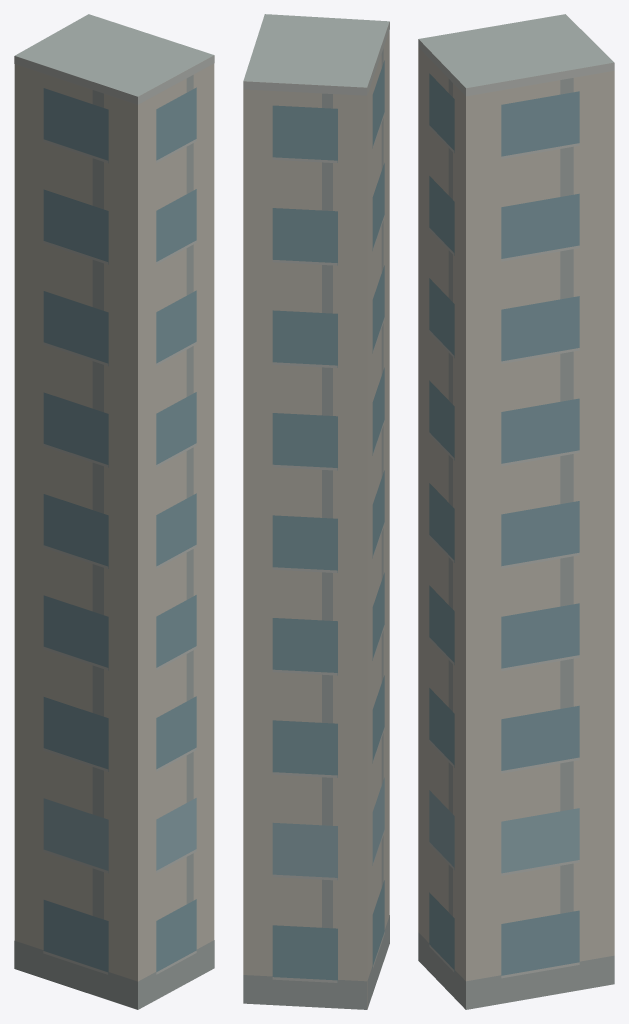
File: survey-upis-32953969.glb
3 views of the same model, side by side, from view 1: azimuth 30°, elevation 25°; view 2: azimuth 150°, elevation 25°; view 3: azimuth 270°, elevation 25° (orthographic).
Visible parts, largest first — view 1: survey-upis-32953969.tmp; view 2: survey-upis-32953969.tmp; view 3: survey-upis-32953969.tmp.
Part boxes in pixels (x1,y1,x2,y2): survey-upis-32953969.tmp: [14, 14, 214, 1009]; survey-upis-32953969.tmp: [243, 14, 389, 1009]; survey-upis-32953969.tmp: [418, 14, 614, 1009].
Bounding box in the file's own units: 4.75 × 27.45 × 5.3.
